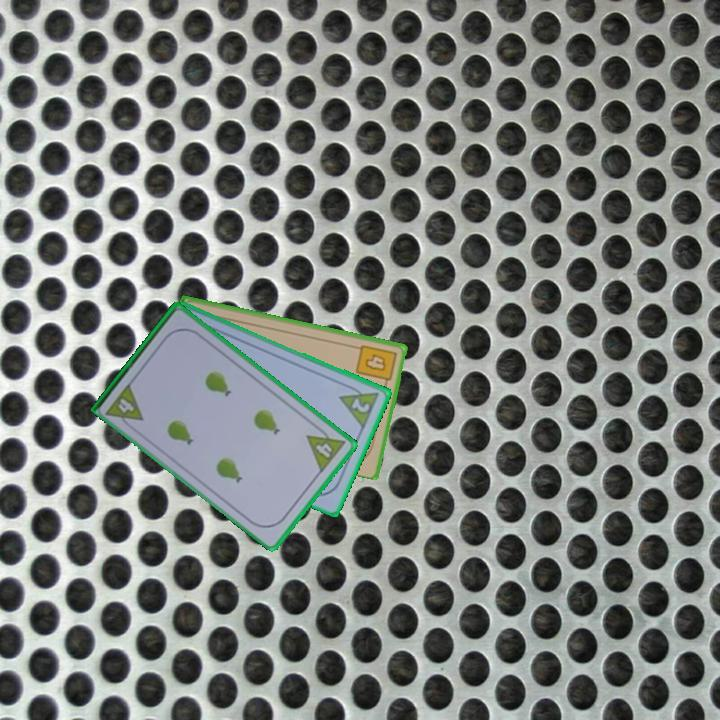2p: (336, 380, 382, 431)
4b: (352, 341, 399, 390)
4p: (303, 421, 348, 475), (103, 379, 146, 433)
